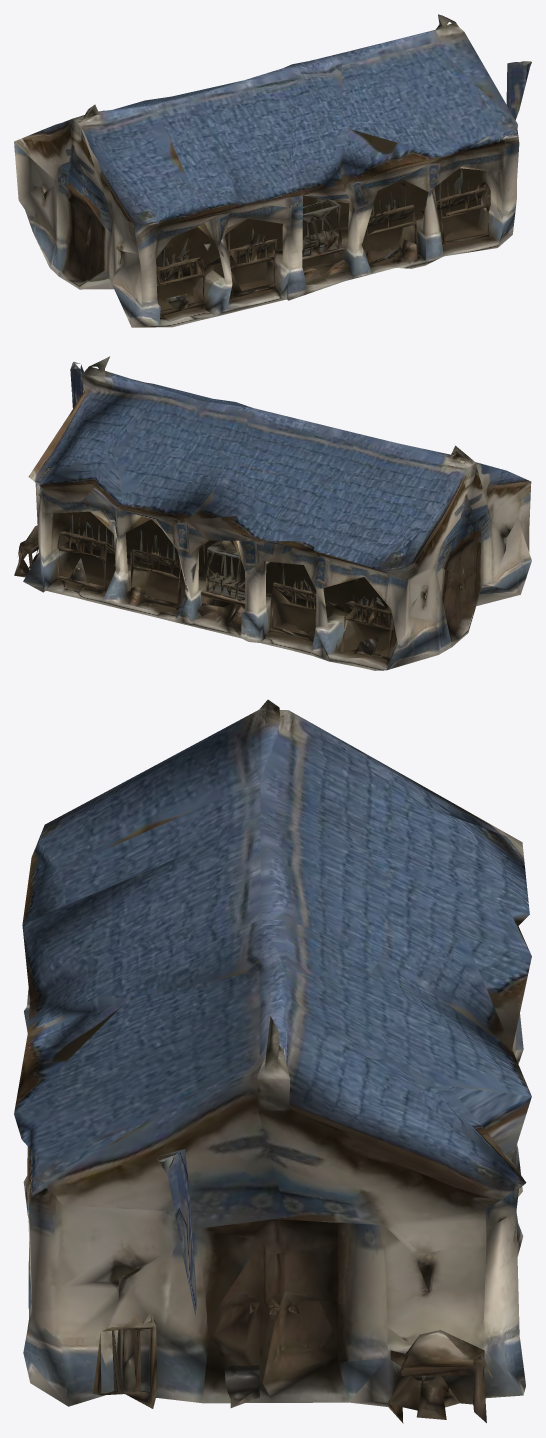
The model's file is armory_1.glb.
The picture shows the model from 3 angles, top to bottom: view 1: azimuth 30°, elevation 25°; view 2: azimuth 150°, elevation 25°; view 3: azimuth 270°, elevation 25°; orthographic projection. The views are drawn at different scales.
Parts seen in each view (by area): view 1: tripo_node_42ef8b94-c11f-49b5-9757-b9f268de9b9a; view 2: tripo_node_42ef8b94-c11f-49b5-9757-b9f268de9b9a; view 3: tripo_node_42ef8b94-c11f-49b5-9757-b9f268de9b9a.
Part boxes in pixels (x1,y1,x2,y2): tripo_node_42ef8b94-c11f-49b5-9757-b9f268de9b9a: [14, 14, 531, 327]; tripo_node_42ef8b94-c11f-49b5-9757-b9f268de9b9a: [14, 356, 531, 670]; tripo_node_42ef8b94-c11f-49b5-9757-b9f268de9b9a: [14, 699, 531, 1423].
Size of the model in its own units: 0.9675 by 0.407 by 0.5181.
Materials: 1 (1 with a texture image).
